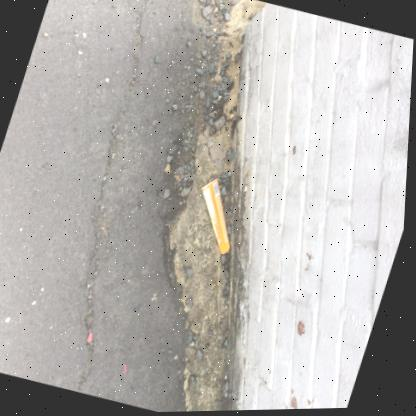Paper: (203, 179, 232, 255)
